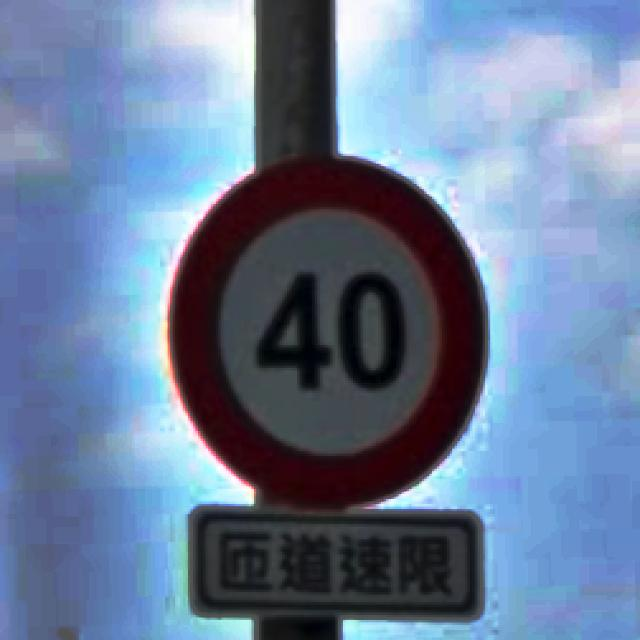max40: (165, 149, 488, 509)
